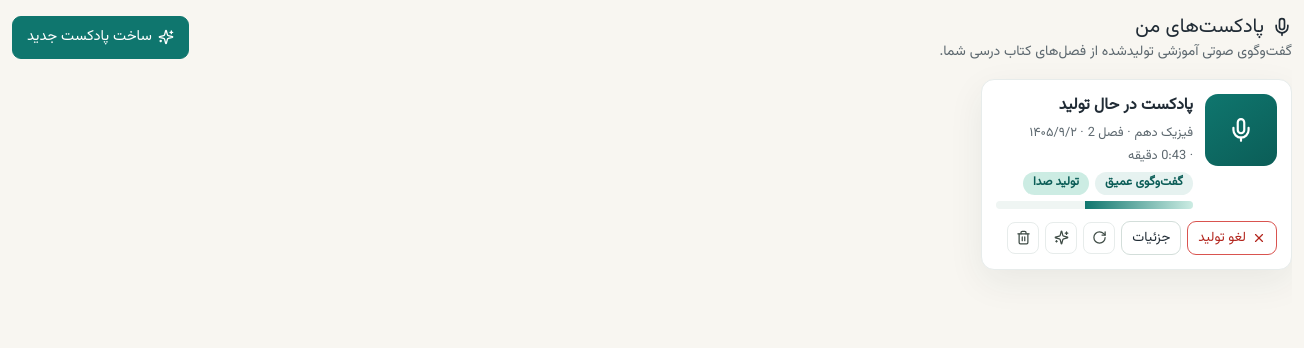
PodcastWorkspace › cancels an in-progress job through the real backend cancel endpoint (Phase 04)
This screenshot has width=1304, height=348.
Click the button with aria-label "لغو تولید پادکست در حال تولید".
click(1232, 238)  # box left=1187, top=221, right=1277, bottom=255
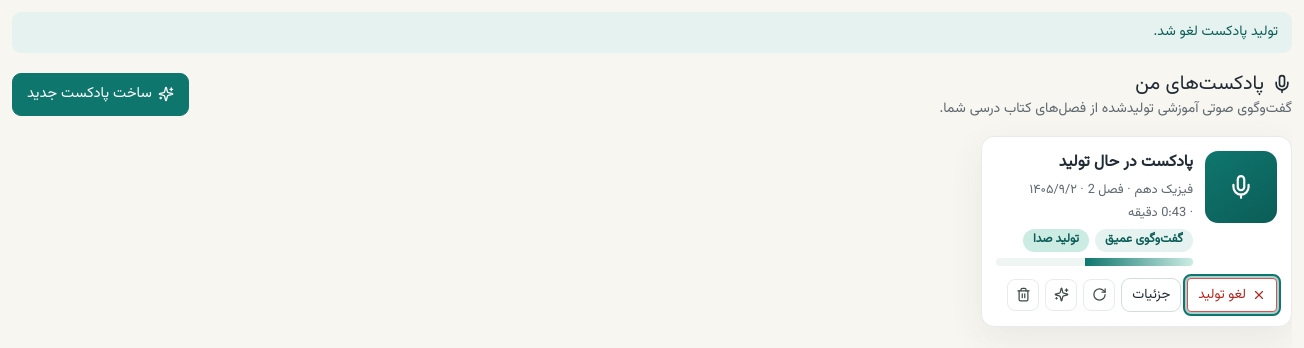
Check: the text "تولید پادکست لغو شد." is shown, box left=12, top=12, right=1292, bottom=53
